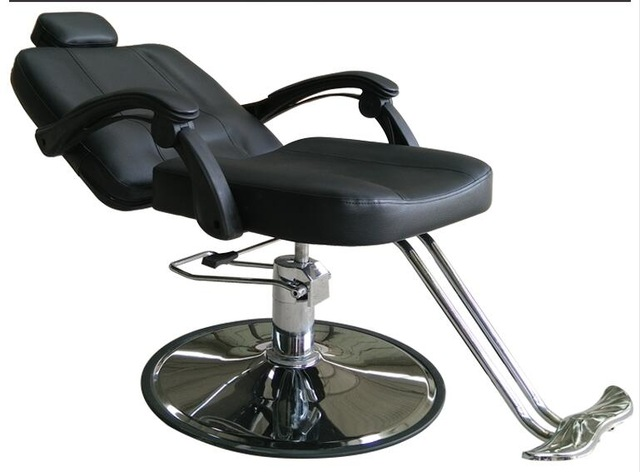chairs: (11, 9, 634, 463)
